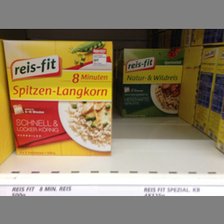rice: (1, 39, 114, 156), (120, 48, 186, 119)
